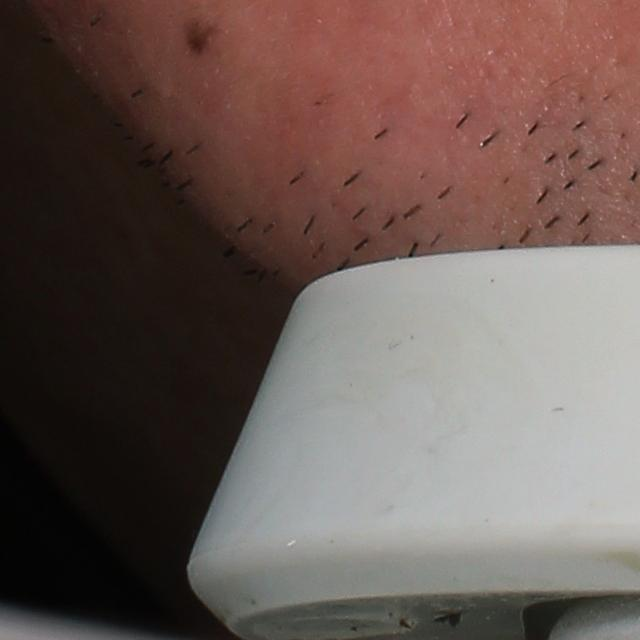nevus: (177, 9, 226, 64)
